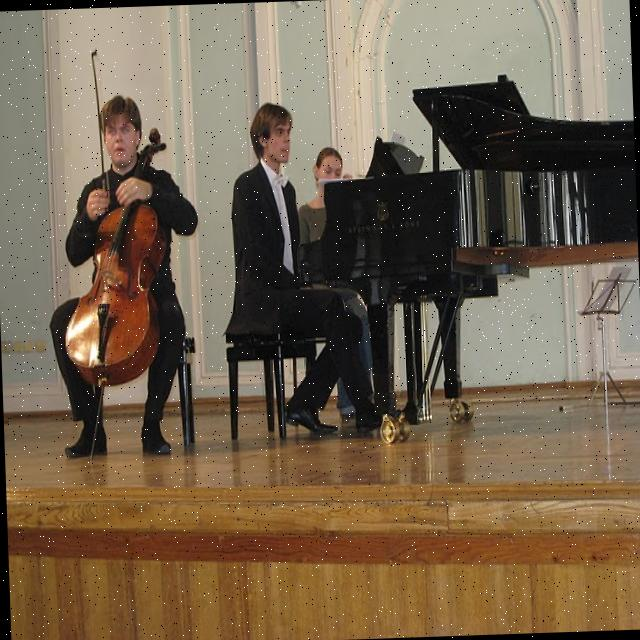cello: (54, 117, 176, 390)
